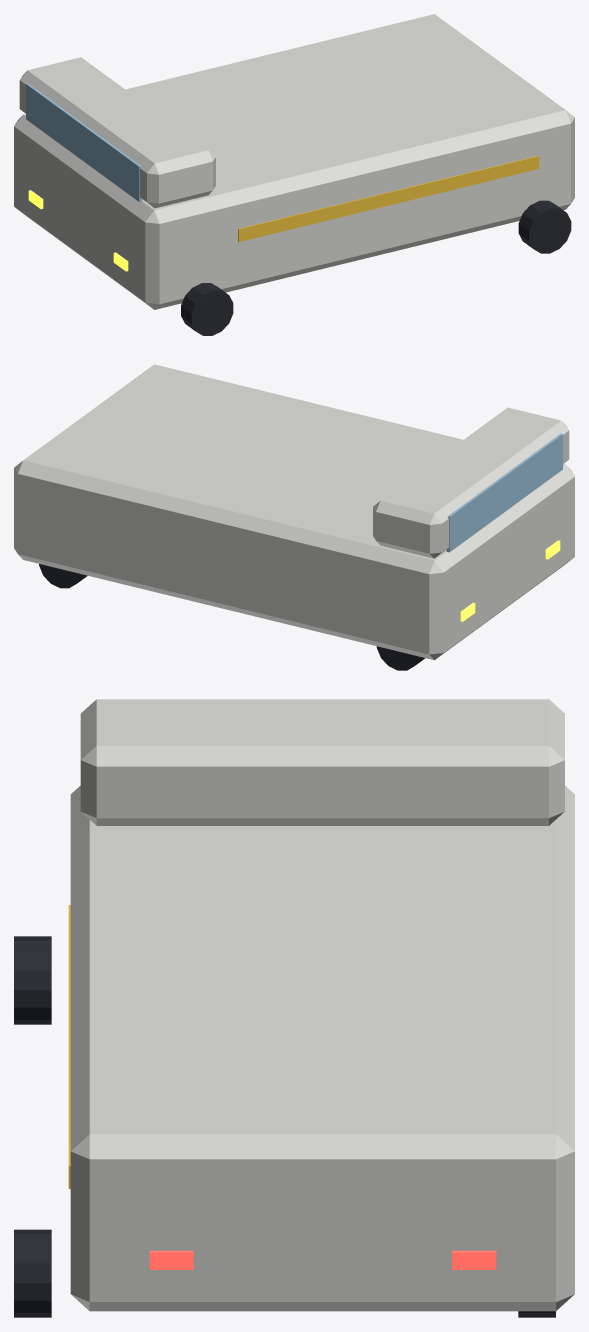
The model's file is van_long.glb.
The picture shows the model from 3 angles, top to bottom: view 1: azimuth 30°, elevation 25°; view 2: azimuth 150°, elevation 25°; view 3: azimuth 270°, elevation 25°; orthographic projection. The views are drawn at different scales.
Visible parts, largest first — view 1: van_long_mesh; view 2: van_long_mesh; view 3: van_long_mesh.
Boxes of the visible parts, <box> form: van_long_mesh: <box>14,14,574,335</box>; van_long_mesh: <box>14,364,574,670</box>; van_long_mesh: <box>14,699,574,1317</box>.
Bounding box in the file's own units: 2.83 × 1.02 × 1.78.
